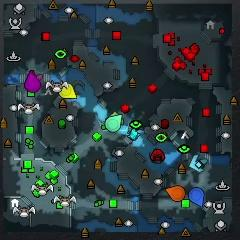p1: (189, 188, 206, 206)
p2: (106, 113, 123, 130)
p3: (24, 72, 43, 92)
p4: (61, 83, 76, 98)
p5: (166, 185, 185, 203)
x2: (110, 111, 124, 124)
x3: (189, 155, 211, 172)
